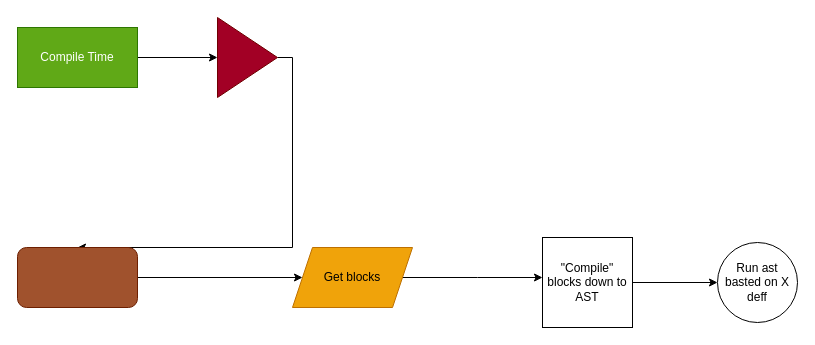
Some shapes in this 815 by 345 pixel diagram are drawn without their labels. The centre of each missing label's shape, as x and y in pixels:
"Get Mc Versions" goes at point (247, 57).
"Run Time" goes at point (77, 277).
